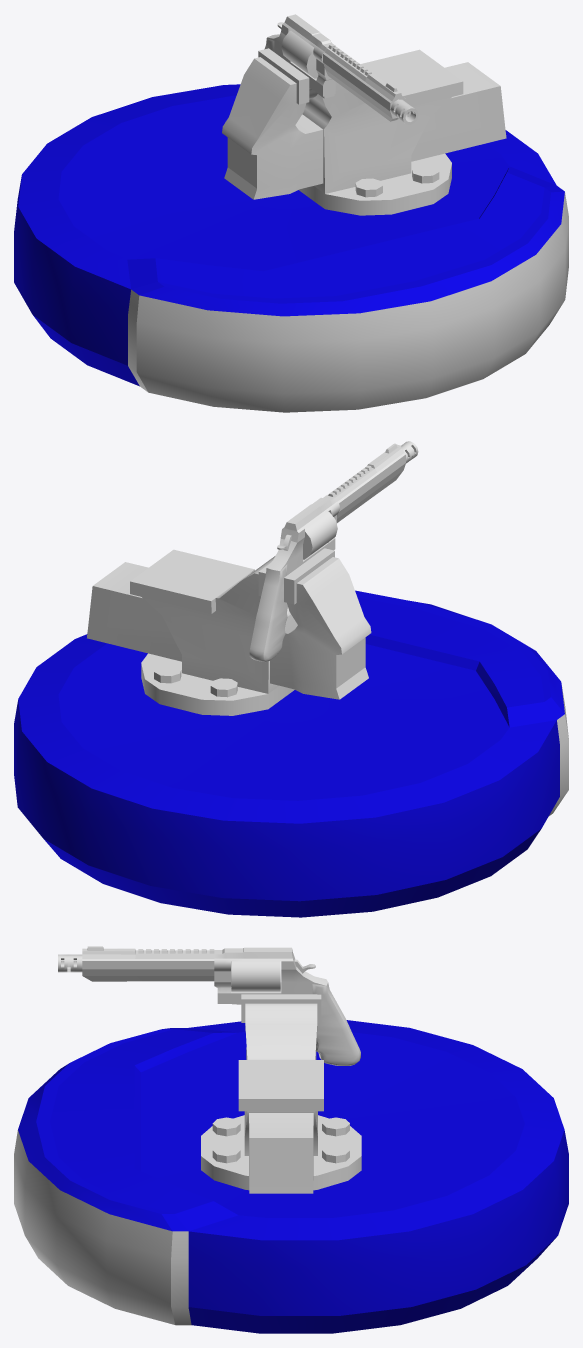
The model's file is Roomba_Gun.fbx.
The picture shows the model from 3 angles, top to bottom: view 1: azimuth 30°, elevation 25°; view 2: azimuth 150°, elevation 25°; view 3: azimuth 270°, elevation 25°; orthographic projection. The views are drawn at different scales.
Visible parts, largest first — view 1: Roomba_Base, Clamp, Clamp Base, GunBarrel, Gun, GunCylinder; view 2: Roomba_Base, Clamp Base, Clamp, Gun, GunBarrel, GunCylinder; view 3: Roomba_Base, Clamp Base, Gun, Clamp, GunBarrel, GunCylinder.
Part boxes in pixels (x1=…): Roomba_Base: x1=14, y1=84, x2=568, y2=412; Clamp: x1=222, y1=48, x2=506, y2=199; Clamp Base: x1=299, y1=49, x2=463, y2=215; GunBarrel: x1=323, y1=44, x2=406, y2=121; Gun: x1=264, y1=14, x2=335, y2=99; GunCylinder: x1=281, y1=30, x2=318, y2=78; Roomba_Base: x1=14, y1=590, x2=568, y2=917; Clamp Base: x1=130, y1=549, x2=294, y2=715; Clamp: x1=87, y1=548, x2=371, y2=699; Gun: x1=249, y1=495, x2=339, y2=662; GunBarrel: x1=327, y1=443, x2=405, y2=522; GunCylinder: x1=303, y1=511, x2=337, y2=559; Roomba_Base: x1=14, y1=1020, x2=568, y2=1333; Clamp Base: x1=201, y1=994, x2=361, y2=1190; Gun: x1=214, y1=947, x2=360, y2=1065; Clamp: x1=246, y1=982, x2=316, y2=1193; GunBarrel: x1=82, y1=946, x2=214, y2=981; GunCylinder: x1=231, y1=961, x2=280, y2=991.
Bounding box in the file's own units: 146 × 85.27 × 152.
